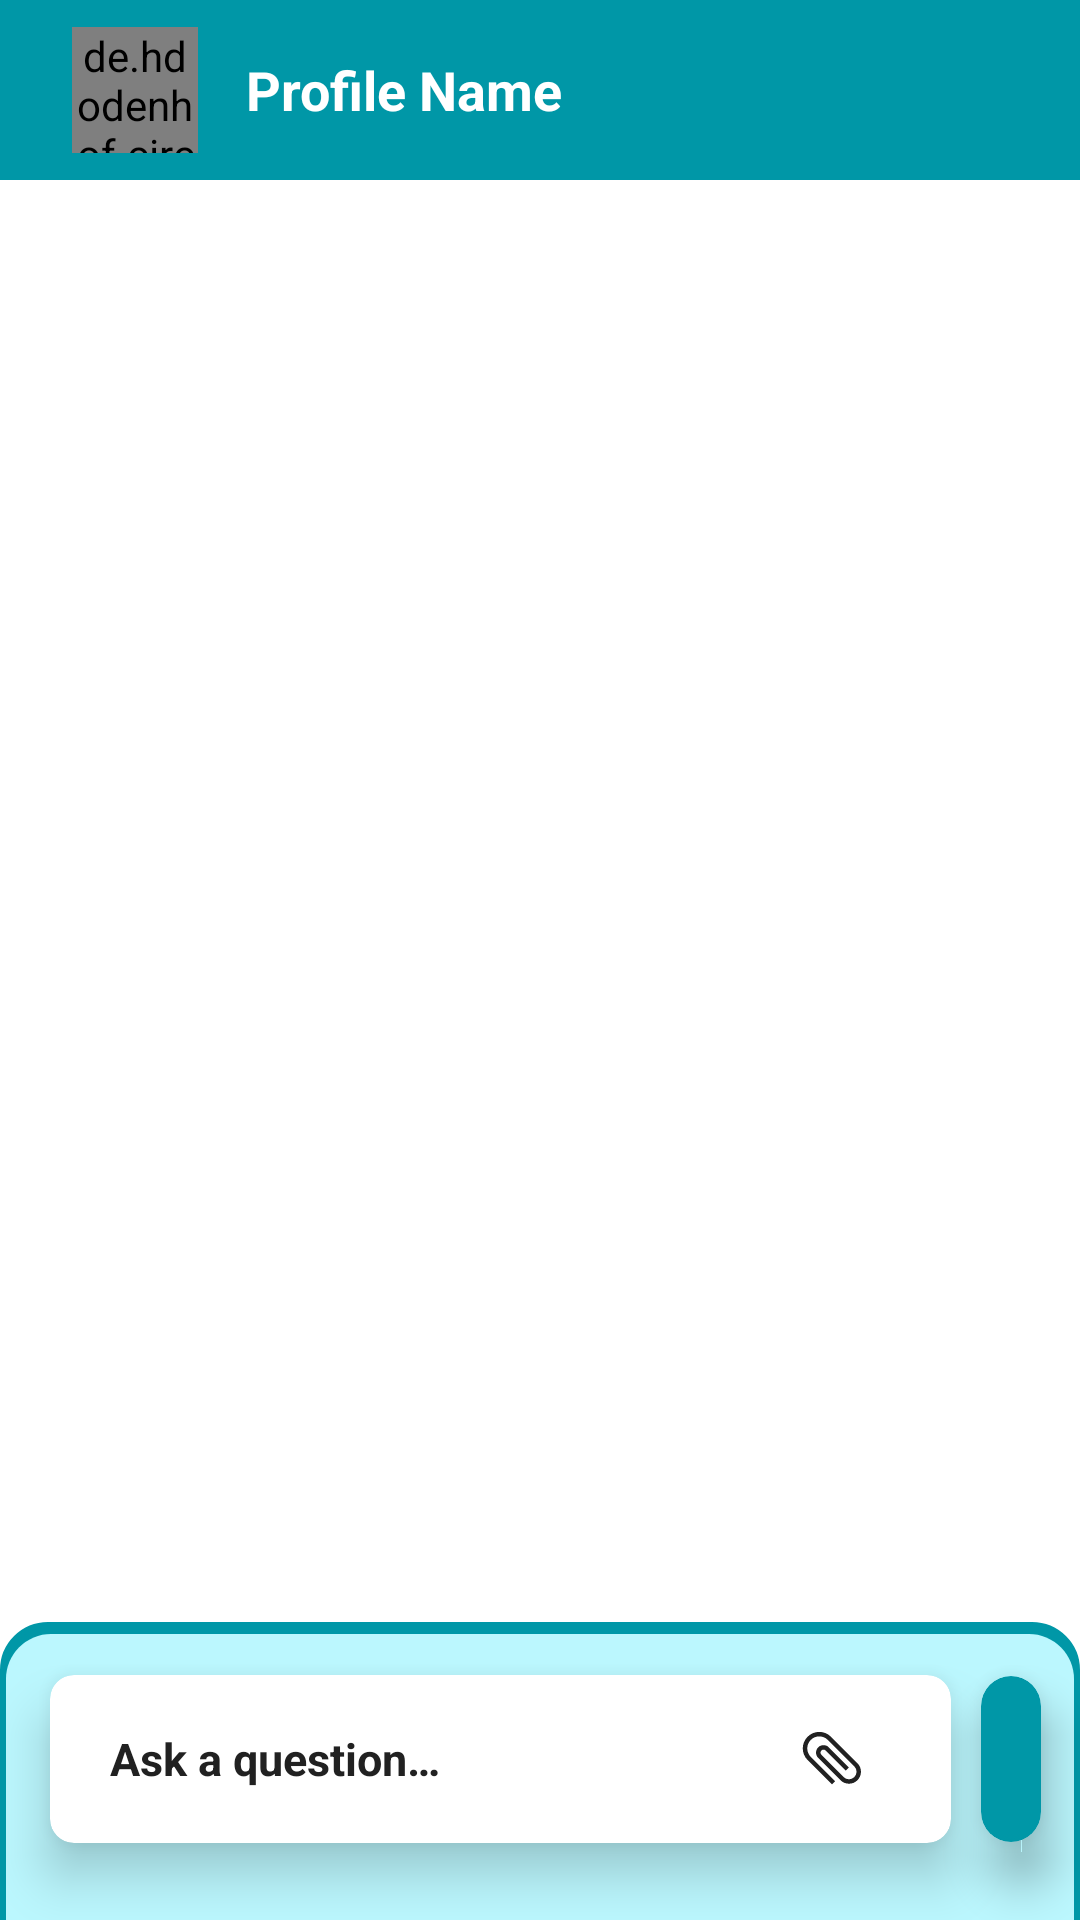

Point at icon controls on the screen. Image size 1080px×1920px, points as (x=x, y=y).
Attachment: (x=831, y=1758)
